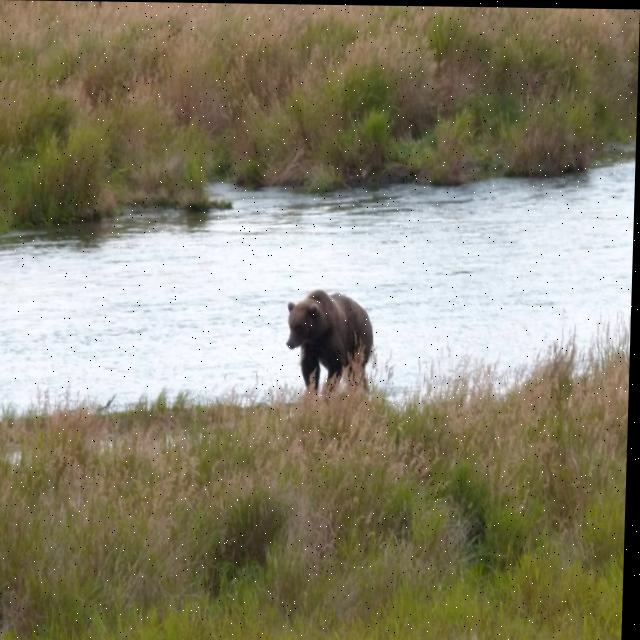bear face: (286, 290, 376, 393)
